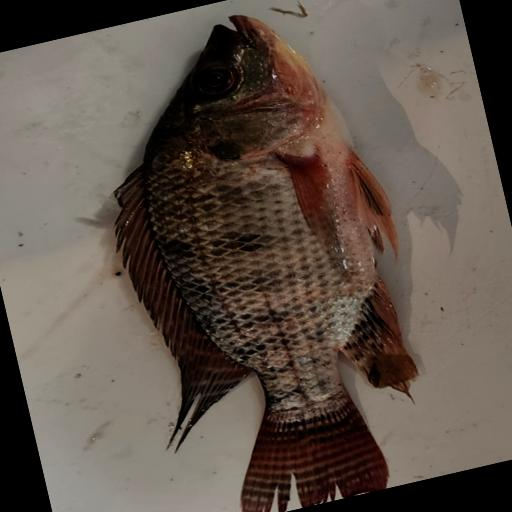Tilapia: (69, 0, 452, 512)
